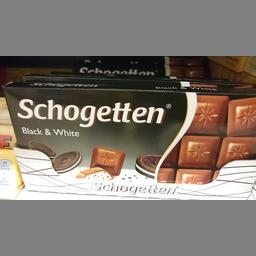chocolate: (2, 80, 255, 186)
